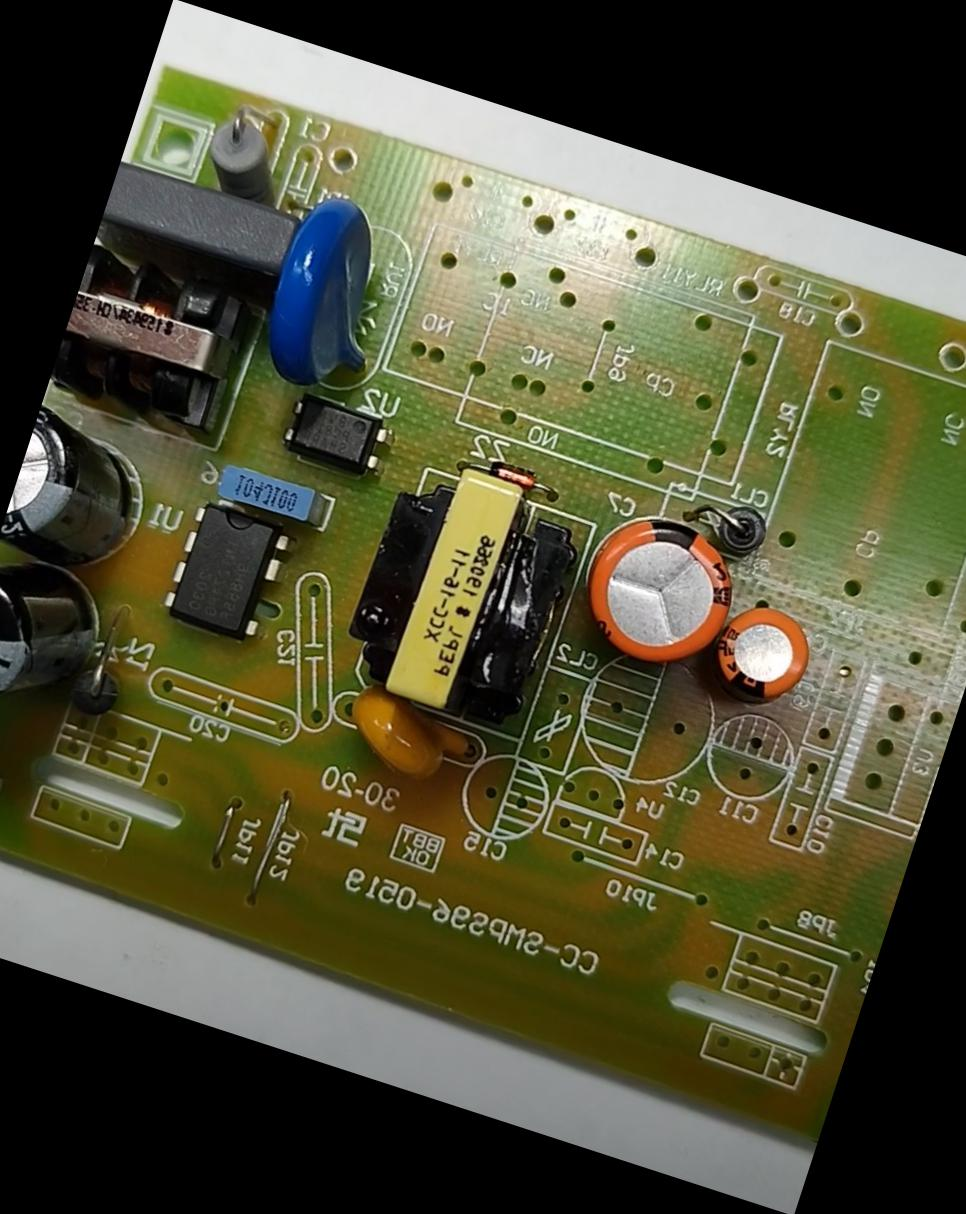Cap1: (563, 492, 756, 684)
Cap2: (698, 581, 835, 714)
Cap3: (0, 397, 168, 589)
Cap4: (0, 545, 123, 749)
MOSFET: (142, 483, 310, 660)
Mov: (244, 178, 421, 407)
Resistor: (183, 95, 307, 214)
Transformer: (329, 443, 604, 750), (46, 238, 268, 446)
